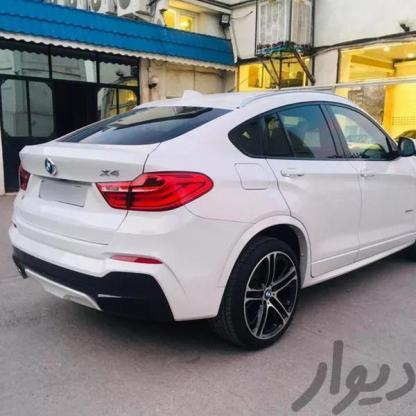Car: (0, 90, 416, 351)
